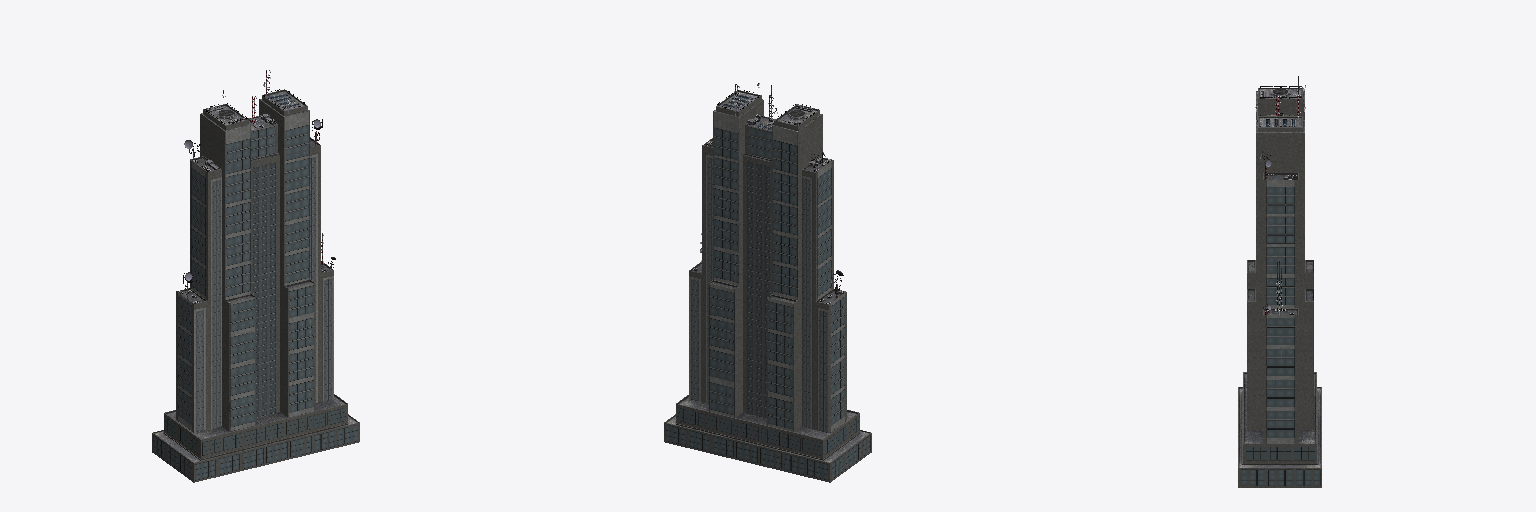
3 renders of one model, left to right at view 1: azimuth 30°, elevation 25°; view 2: azimuth 150°, elevation 25°; view 3: azimuth 270°, elevation 25°, orthographic.
Visible parts, largest first — view 1: Object02, Object01; view 2: Object02, Object01; view 3: Object02, Object01.
Boxes of the visible parts, x1=… form: Object02: x1=152, y1=89, x2=359, y2=482; Object01: x1=179, y1=89, x2=335, y2=303; Object02: x1=664, y1=90, x2=871, y2=482; Object01: x1=693, y1=90, x2=844, y2=303; Object02: x1=1238, y1=88, x2=1321, y2=487; Object01: x1=1260, y1=86, x2=1301, y2=314.
Size of the model in its own units: 58.11 by 128 by 25.33.
Materials: 3 (3 with a texture image).